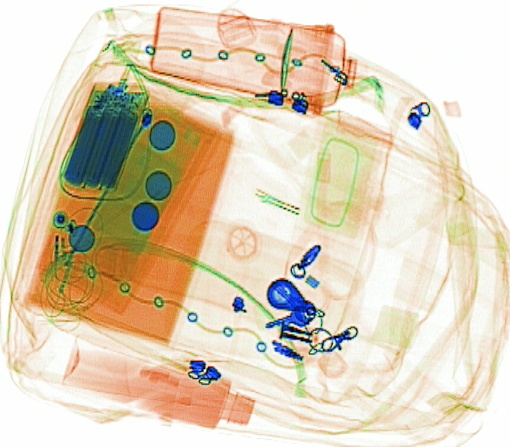powerbank: (61, 80, 149, 194)
